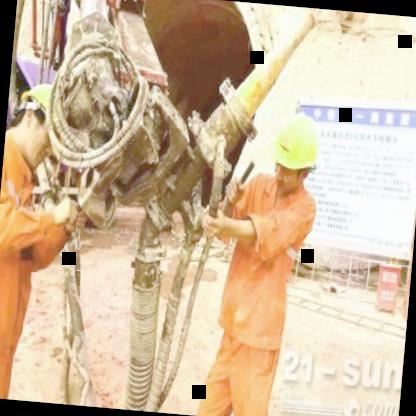helmet: (5, 81, 78, 174), (268, 104, 330, 199)
